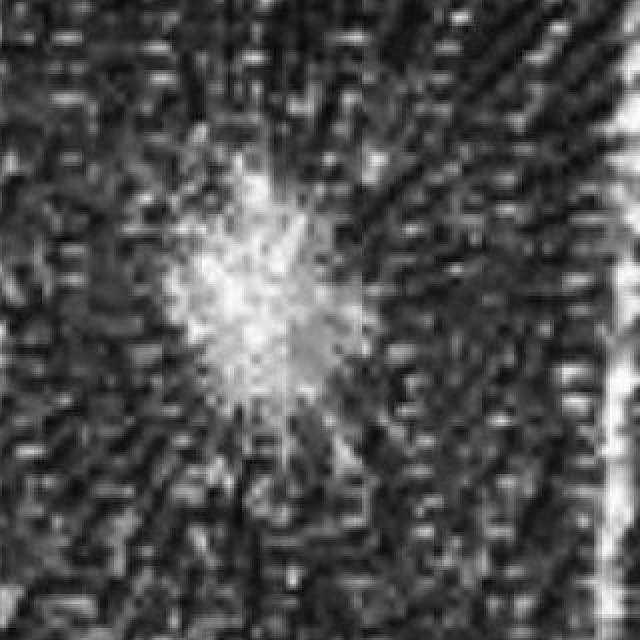Physical-damage: (133, 119, 413, 463)
